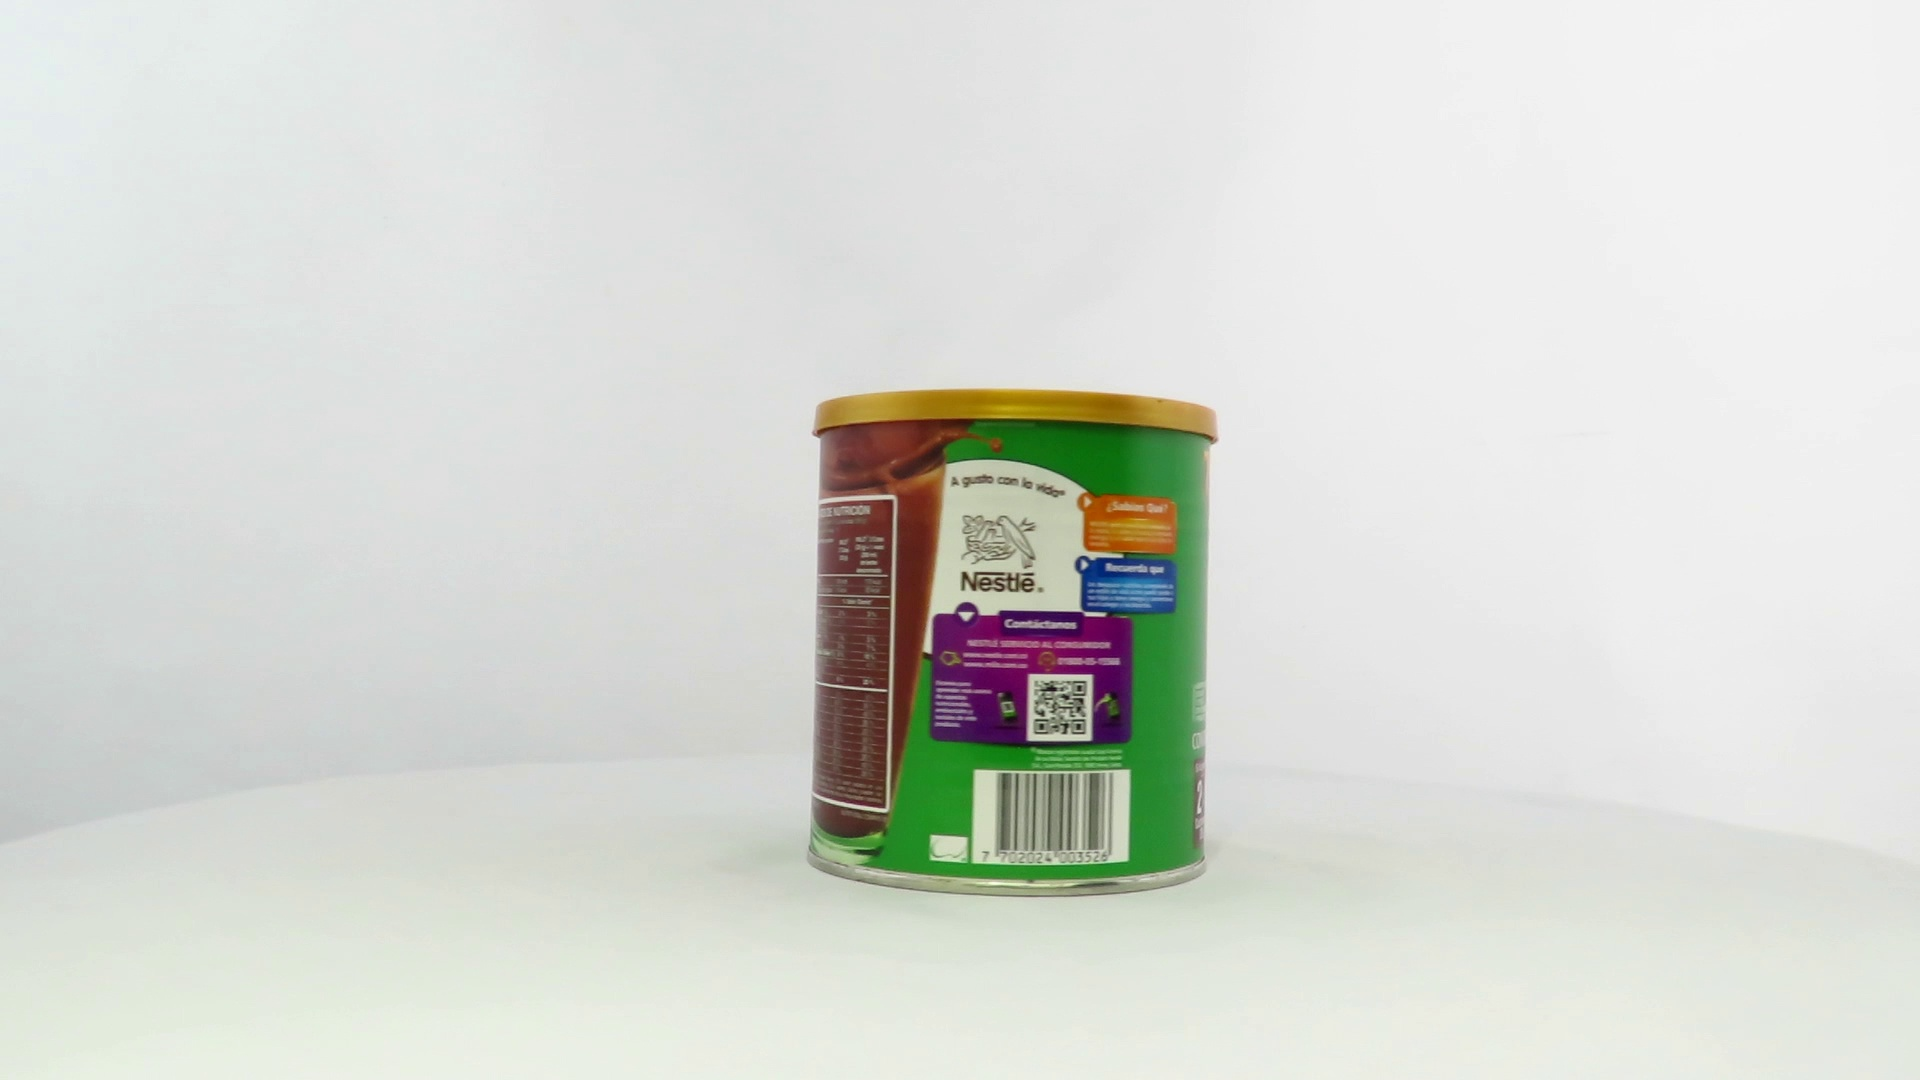COL0170203LAT40000: (800, 382, 1224, 905)
